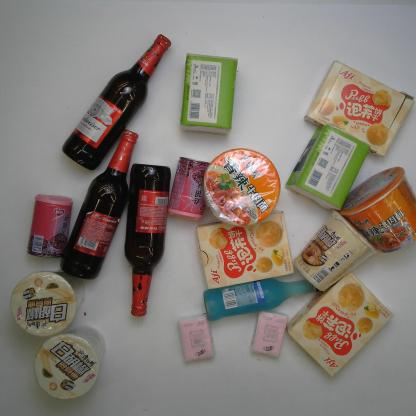Alcohol: (63, 31, 173, 175), (57, 128, 140, 282), (124, 162, 172, 320), (200, 272, 328, 322)
Canned Food: (24, 191, 78, 262), (164, 153, 216, 225)
Dessert: (283, 269, 394, 380), (302, 58, 416, 159), (193, 208, 297, 294)
Instant Noodles: (291, 208, 381, 294), (336, 163, 416, 254), (201, 143, 282, 229), (6, 267, 90, 339), (31, 325, 106, 402)
Tissue: (284, 120, 374, 213), (177, 51, 239, 136), (175, 312, 216, 365), (247, 308, 290, 358)
